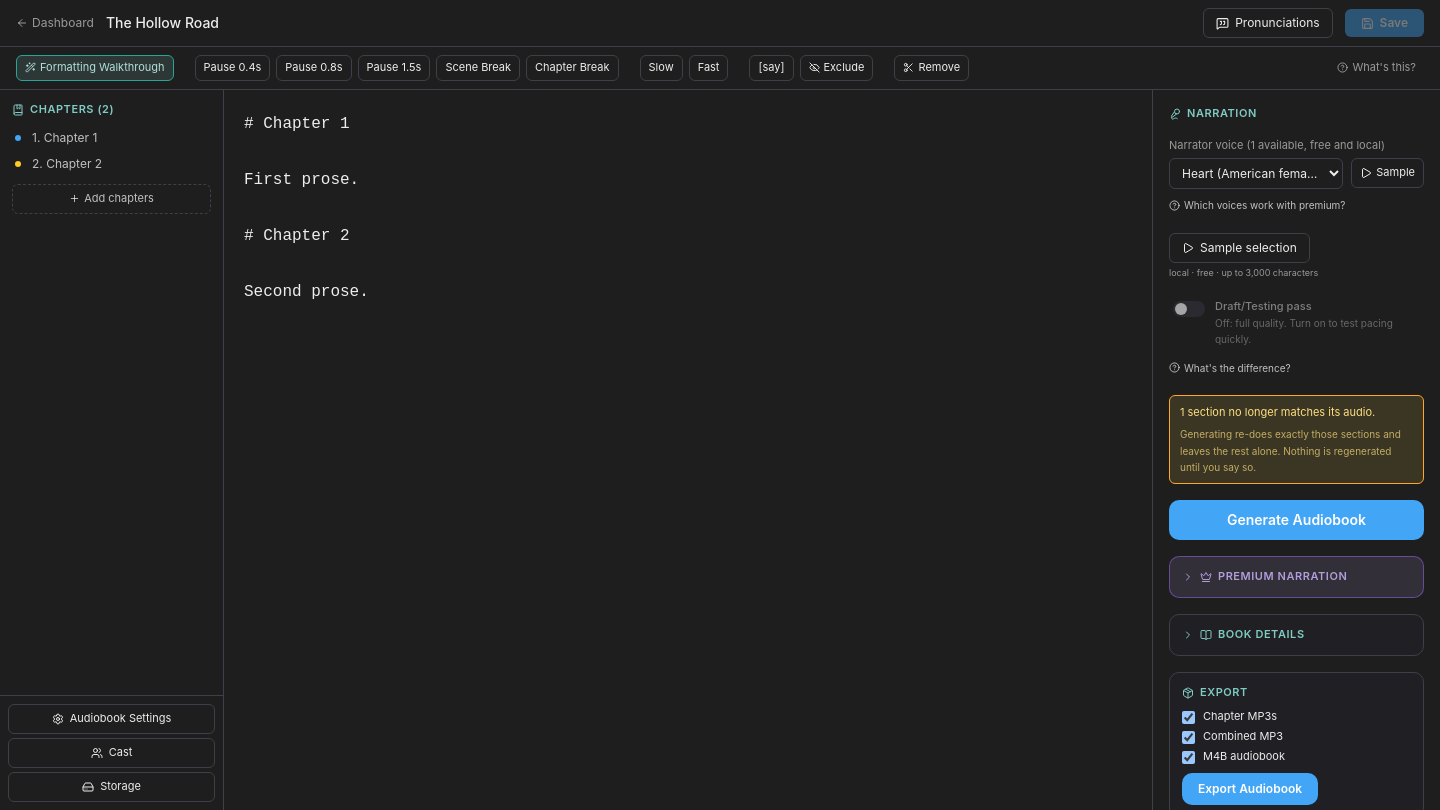
Test: WorkspaceView › [say] opens the structured popout; Accept wraps the word
The width and height of the screenshot is (1440, 810).
Click the button "[say]" at (772,68), box x1=750 y1=55 x2=794 y2=81
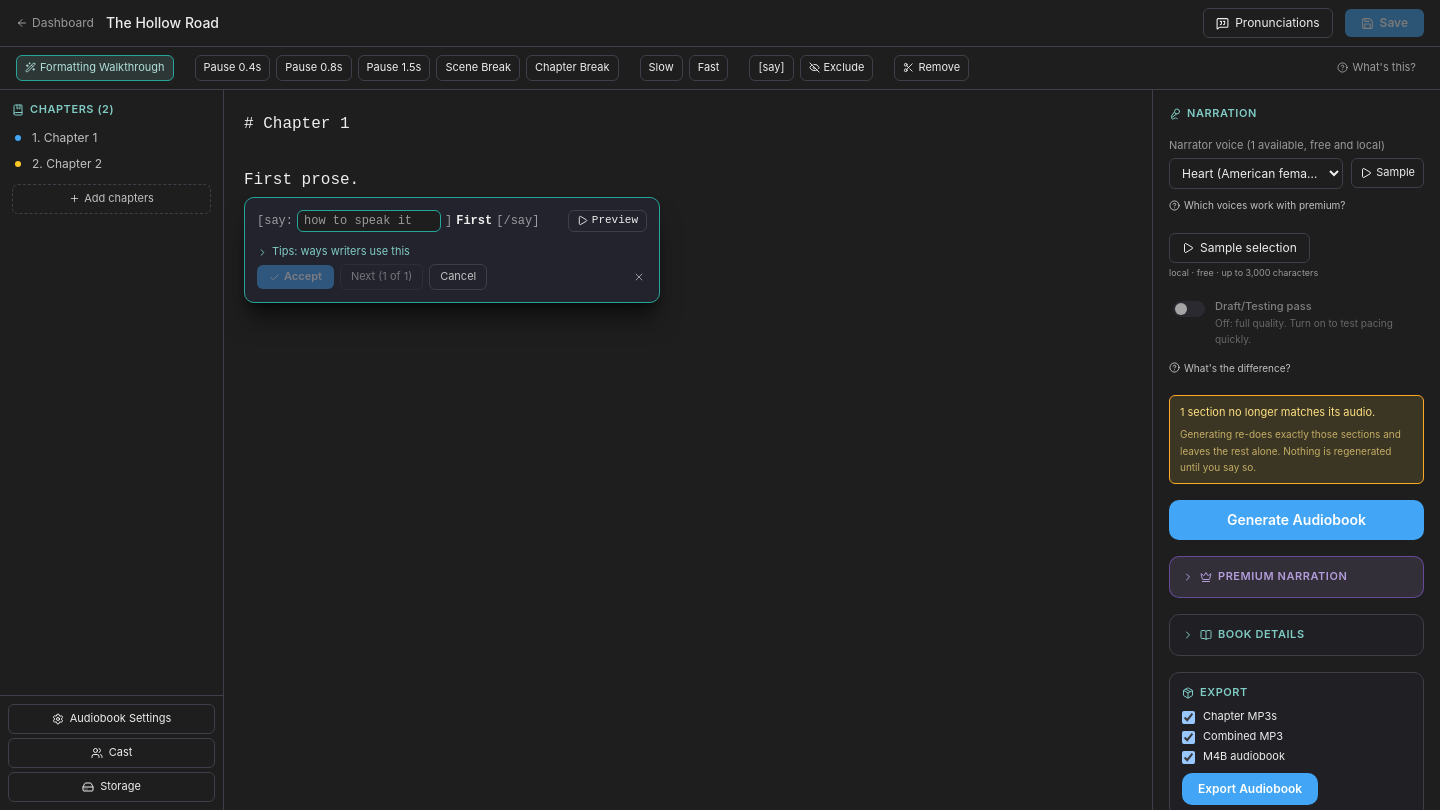
# The popout: brackets are chrome, only the spoken form is typeable.
Type "FURST" into the field named "Spoken form" at (369,221), box x1=297 y1=210 x2=441 y2=232
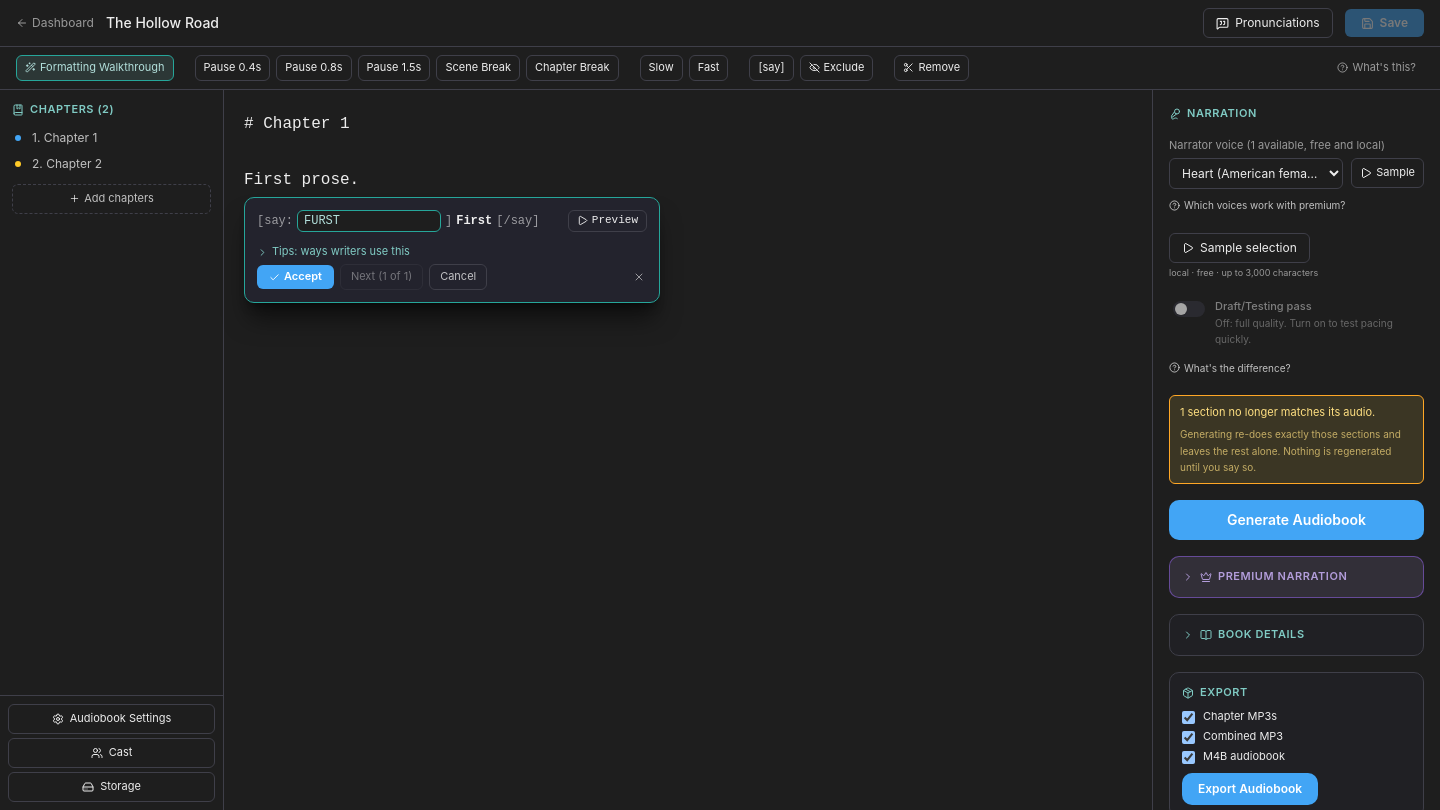
Click the button "Accept" at (295,277), box x1=257 y1=265 x2=334 y2=289
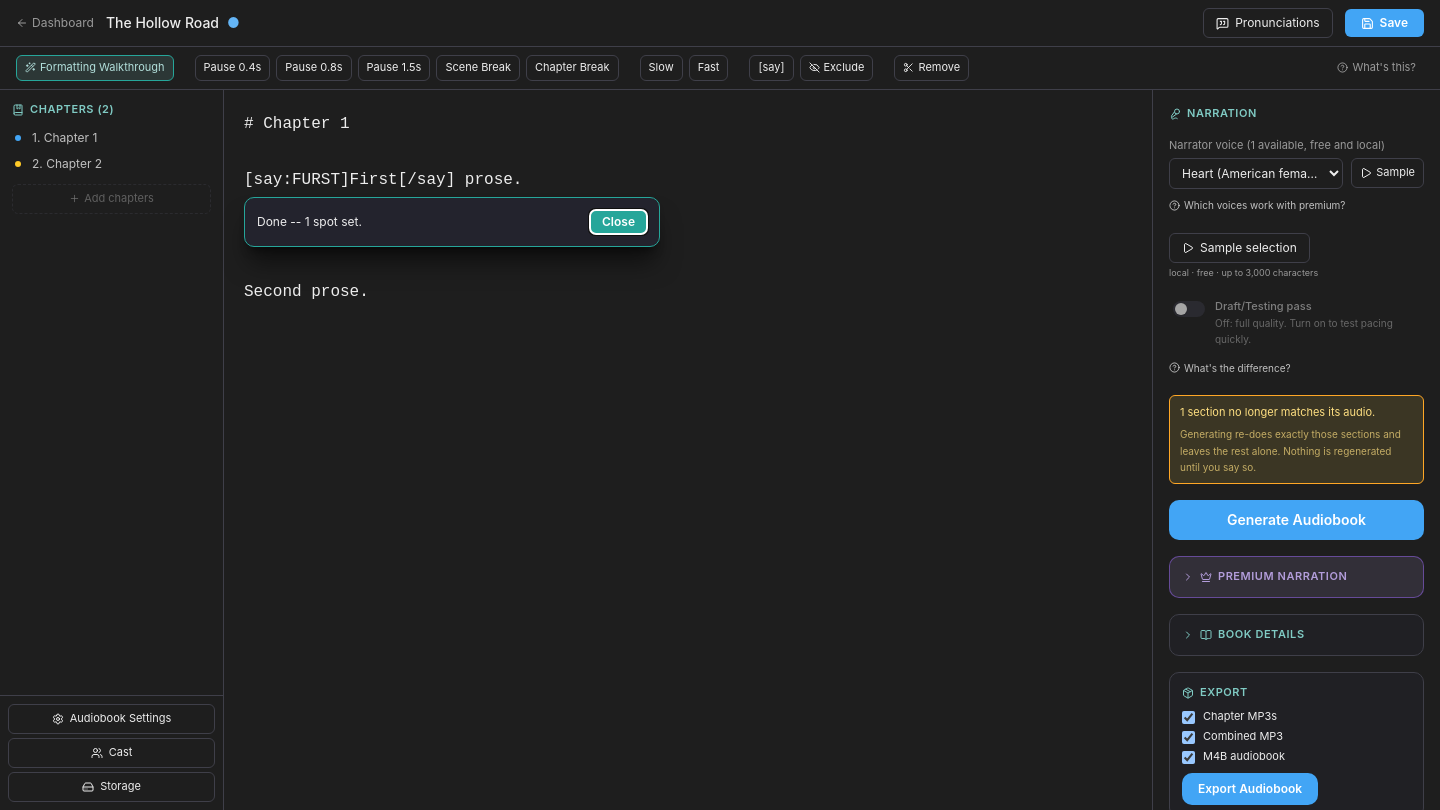
Now the text titled "Unsaved changes" is shown, box x1=227 y1=14 x2=240 y2=31
